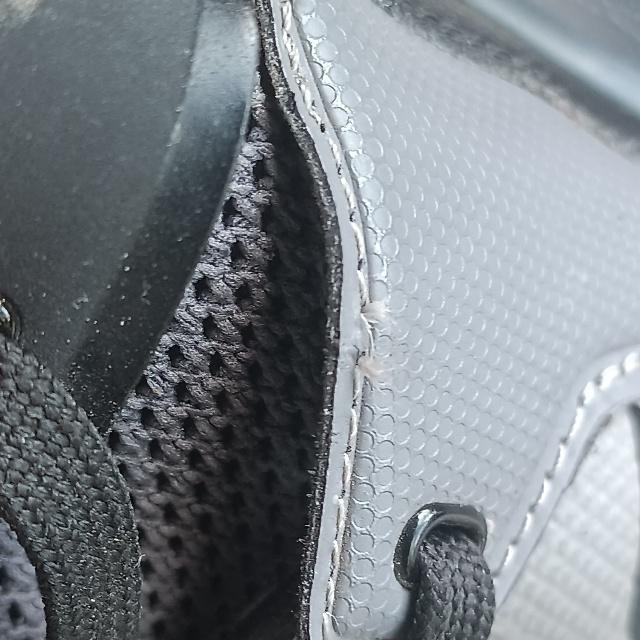broken-error: (346, 283, 387, 390)
